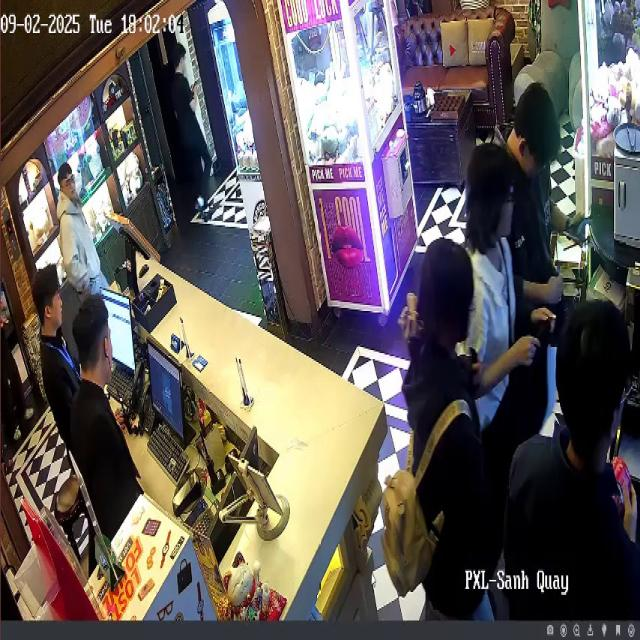khach: (509, 279, 640, 618), (385, 246, 502, 622), (460, 134, 560, 433), (502, 67, 569, 432), (166, 39, 215, 226), (54, 157, 117, 297)
nhan vien: (72, 295, 151, 546), (32, 263, 82, 469)
